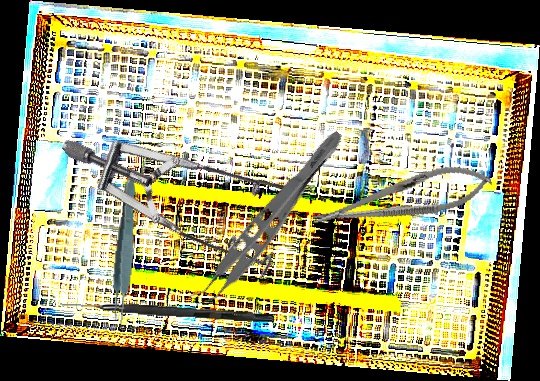Hook Surgical: (59, 300, 275, 323)
Needle Holder: (308, 156, 496, 241)
Speculum: (59, 45, 330, 328)
Tissue Forceps: (184, 117, 349, 317), (108, 176, 140, 327)
